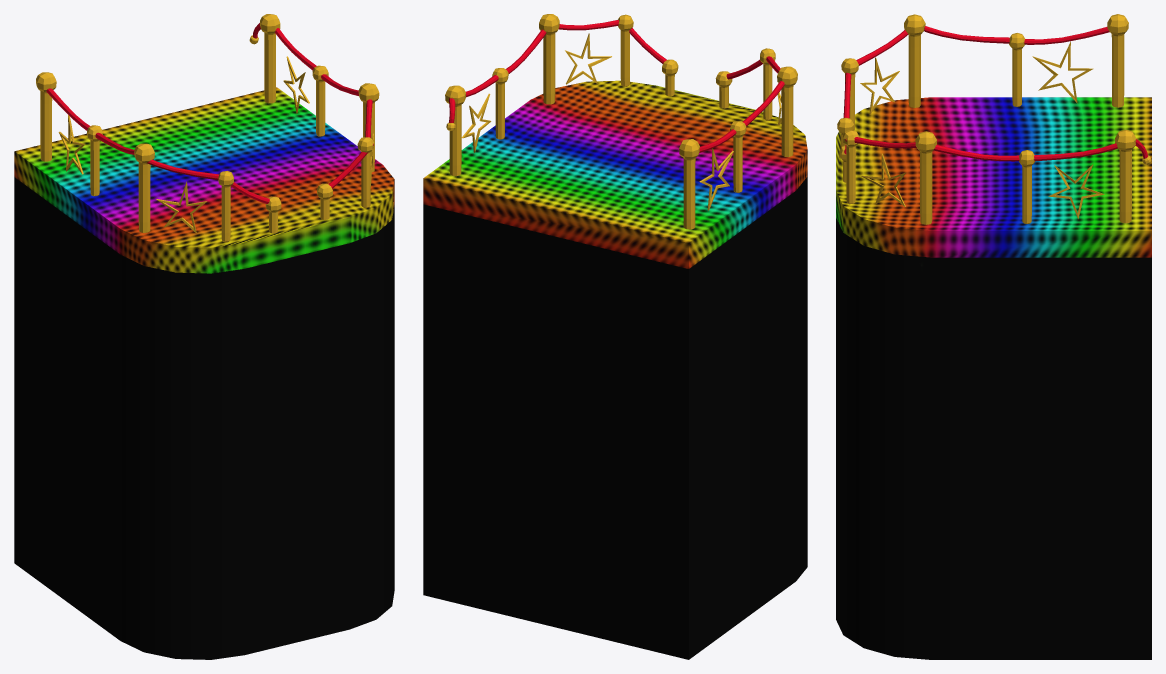
Rendered from Plataforma Final.fbx.
3 renders of one model, left to right at view 1: azimuth 30°, elevation 25°; view 2: azimuth 150°, elevation 25°; view 3: azimuth 270°, elevation 25°, orthographic. The views are drawn at different scales.
Visible parts, largest first — view 1: Plataforma Final, Cube.097, Cube.089; view 2: Plataforma Final, Cube.097, Cube.089; view 3: Plataforma Final, Cube.097, Cube.089, Plane.012, Plane.015, Plane.014, Plane.013.
Part boxes in pixels (x1,y1,x2,y2): Plataforma Final: (14, 87, 394, 659); Cube.097: (36, 14, 379, 242); Cube.089: (46, 23, 373, 203); Plataforma Final: (423, 80, 807, 659); Cube.097: (445, 14, 797, 229); Cube.089: (446, 20, 784, 152); Plataforma Final: (836, 97, 1151, 659); Cube.097: (837, 14, 1136, 224); Cube.089: (843, 26, 1151, 164); Plane.012: (1032, 41, 1093, 103); Plane.015: (1048, 164, 1104, 218); Plane.014: (861, 153, 905, 206); Plane.013: (860, 57, 899, 114).
Size of the model in its own units: 1000 by 1815 by 1000.
Materials: 1 (1 with a texture image).
